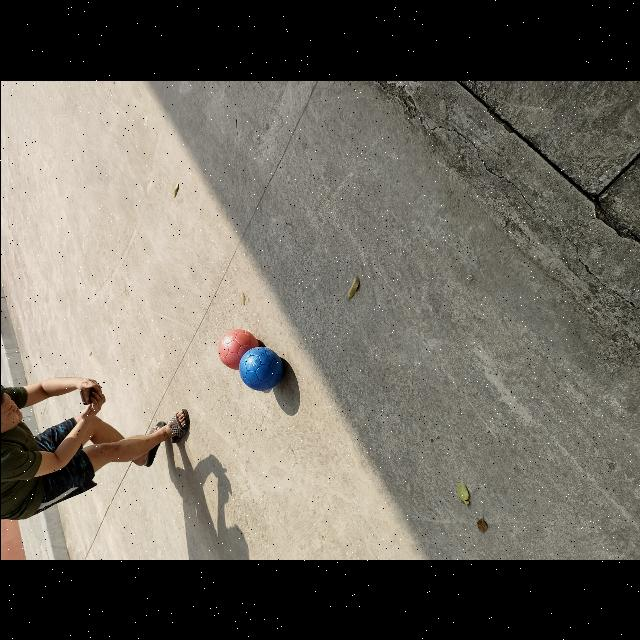B: (238, 346, 282, 391)
R: (217, 328, 257, 369)
